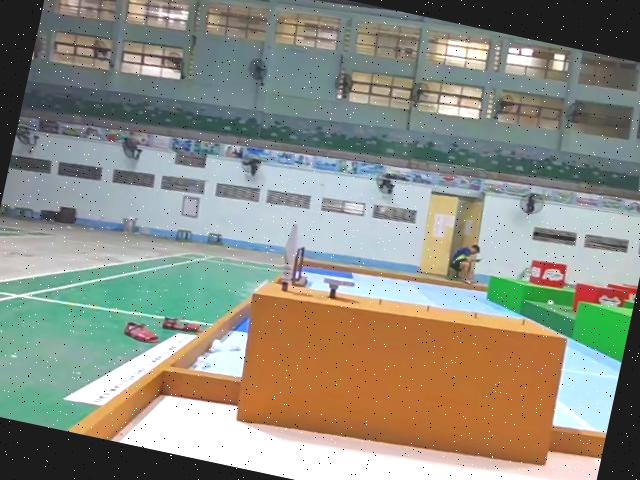Hand: (320, 274, 355, 301)
Sph: (275, 221, 307, 291)
